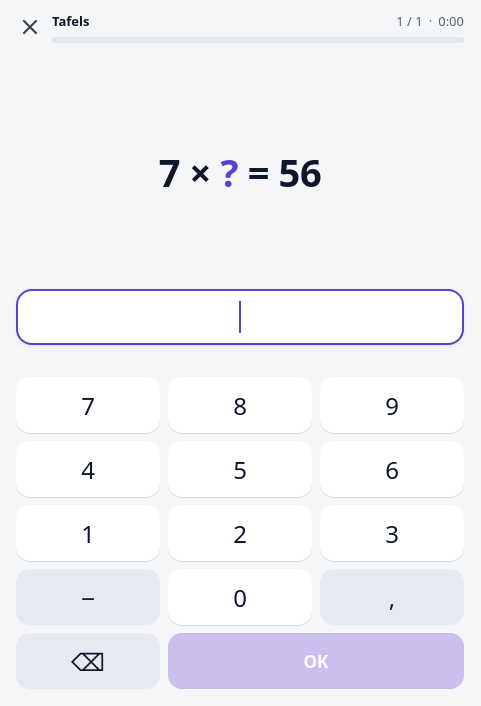
Test: PlayScreen › correct state › fills the unknown of the sum with the typed input
Click the button "8".
click(240, 405)  # box [168,377,312,433]
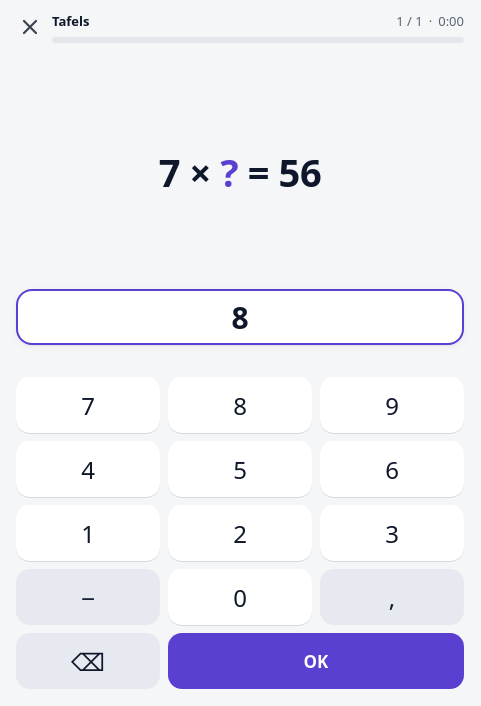
Click the button "OK".
click(316, 661)  # box [168,633,464,689]
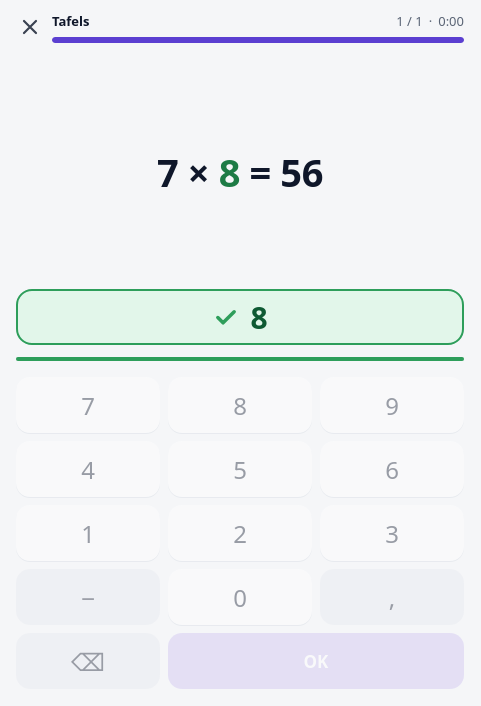
Expected: the element showing "7 × 8 = 56" is shown, [157,146,323,198]
Expected: the text with class "tone-good" reads "8", [219,146,240,198]
